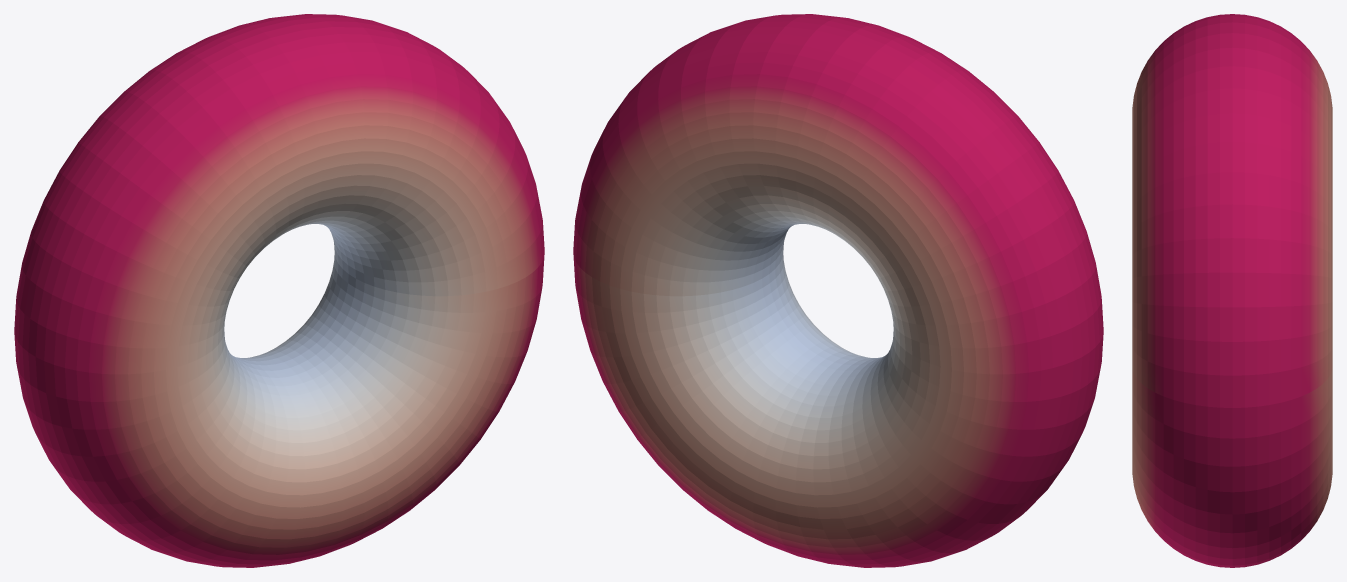
3 views of the same model, side by side, from view 1: azimuth 30°, elevation 25°; view 2: azimuth 150°, elevation 25°; view 3: azimuth 270°, elevation 25° (orthographic). The views are drawn at different scales.
Parts seen in each view (by area): view 1: world; view 2: world; view 3: world.
Boxes of the visible parts, box(x1,y1,x2,y2) form: world: box(14, 14, 544, 567); world: box(573, 14, 1103, 567); world: box(1132, 14, 1332, 567).
Size of the model in its own units: 26.13 by 26.08 by 9.45.
